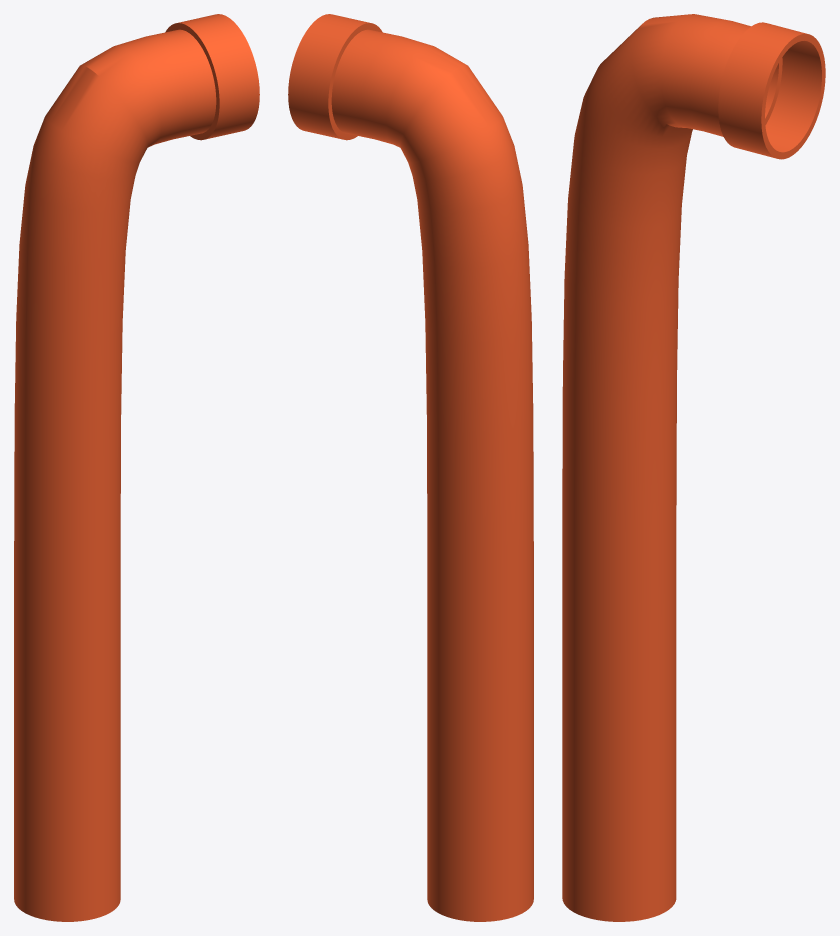
File: Pipe.fbx
3 renders of one model, left to right at view 1: azimuth 30°, elevation 25°; view 2: azimuth 150°, elevation 25°; view 3: azimuth 330°, elevation 25°, orthographic. The views are drawn at different scales.
Parts seen in each view (by area): view 1: BezierCurve; view 2: BezierCurve; view 3: BezierCurve.
Part boxes in pixels (x1,y1,x2,y2): BezierCurve: [14, 14, 259, 921]; BezierCurve: [288, 14, 533, 921]; BezierCurve: [562, 14, 825, 921].
Bounding box in the file's own units: 211 × 813 × 105.
